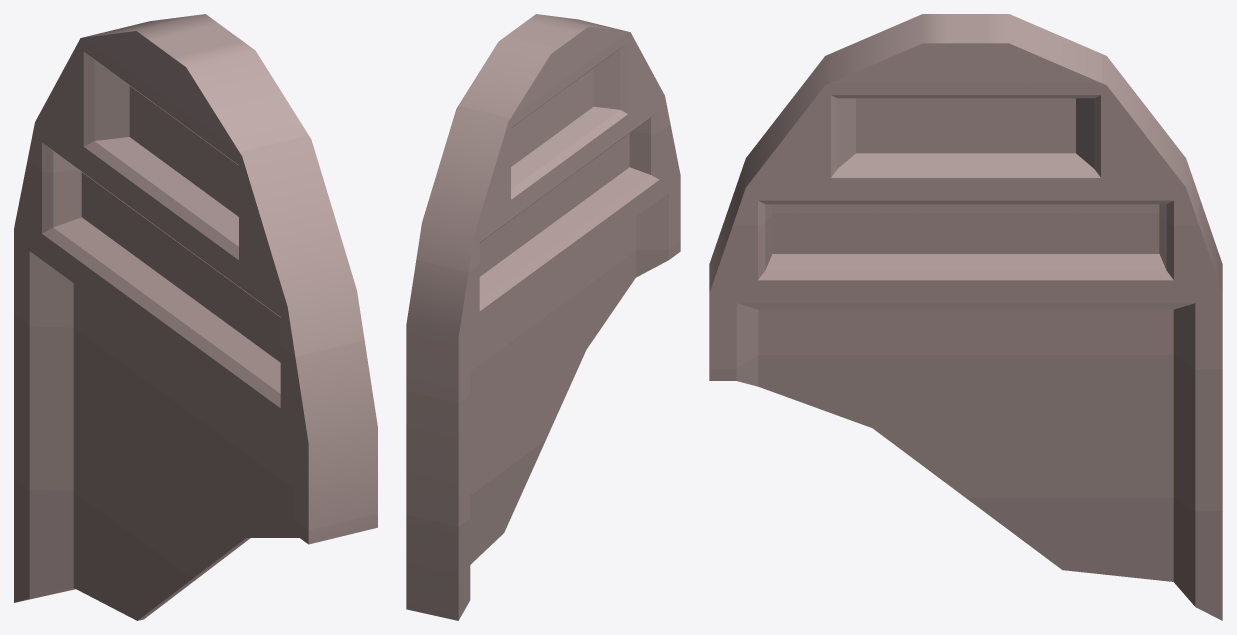
The model's file is SM_Gravestone_00_TH.fbx.
3 views of the same model, side by side, from view 1: azimuth 30°, elevation 25°; view 2: azimuth 150°, elevation 25°; view 3: azimuth 270°, elevation 25° (orthographic). The views are drawn at different scales.
Parts seen in each view (by area): view 1: Gravestone_00_01; view 2: Gravestone_00_01; view 3: Gravestone_00_01.
Part boxes in pixels (bbox=[...]): Gravestone_00_01: bbox=[14, 14, 377, 620]; Gravestone_00_01: bbox=[406, 14, 680, 620]; Gravestone_00_01: bbox=[709, 14, 1222, 620].
Bounding box in the file's own units: 16.39 × 150 × 121.
1 material, 1 textured.
